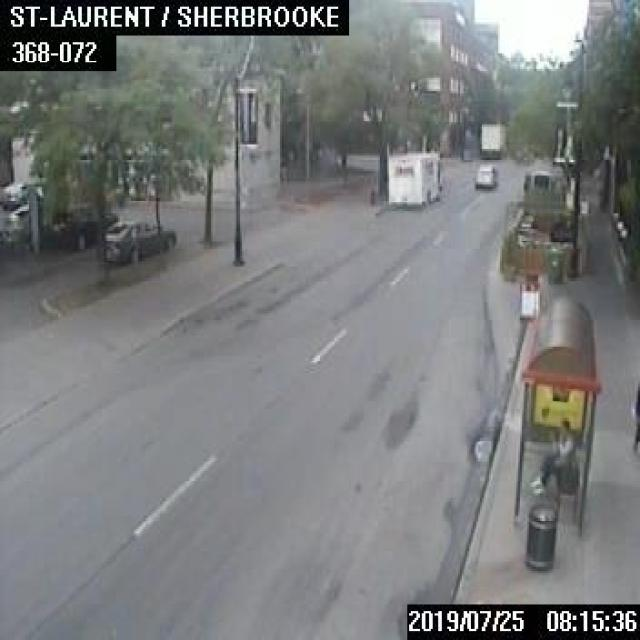construction: (367, 182, 375, 205)
pedestrian: (527, 418, 575, 493), (627, 384, 638, 456)
vehicle: (98, 218, 175, 261), (385, 149, 440, 207), (53, 206, 118, 248), (522, 170, 561, 204), (478, 120, 504, 156), (473, 162, 495, 186)
